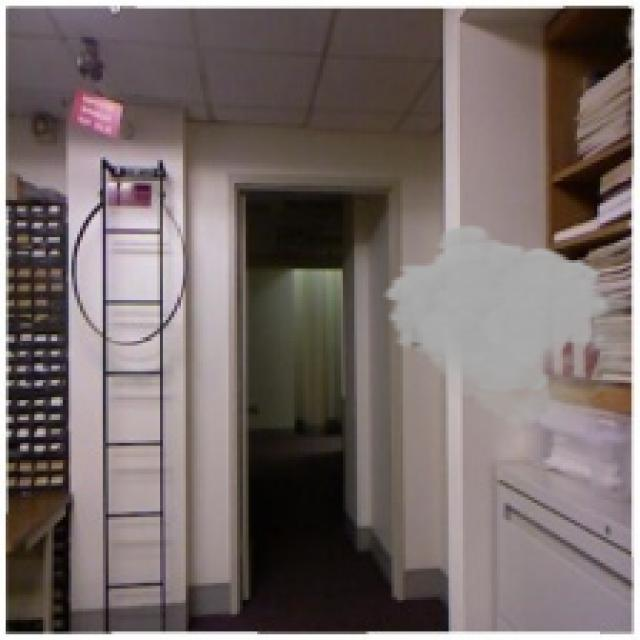smoke: (380, 223, 631, 437)
